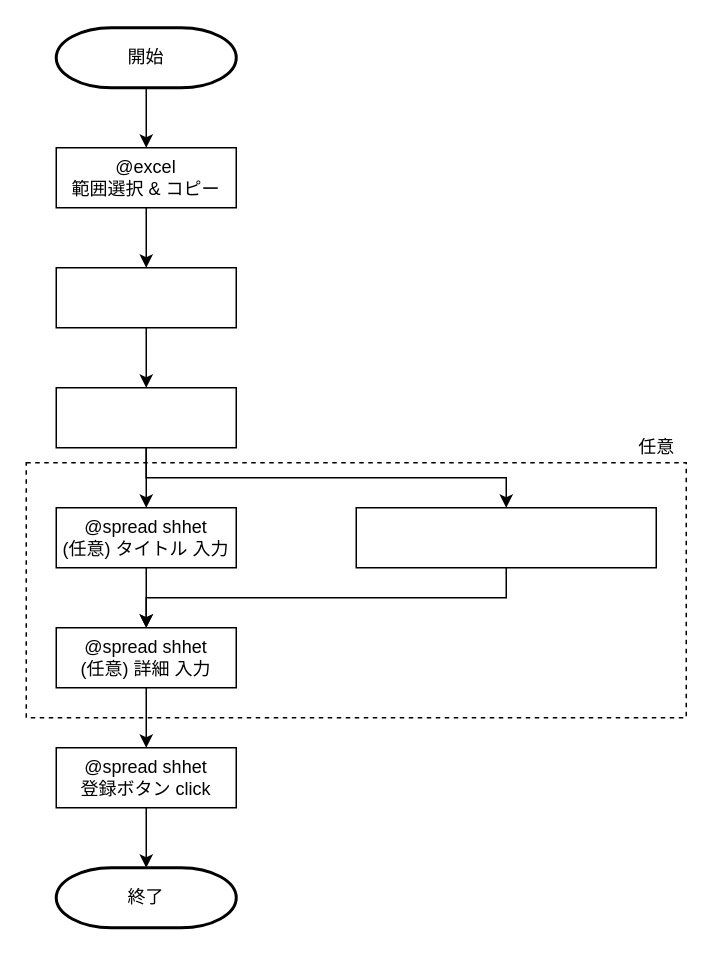
Some shapes in this 713 by 954 pixel diagram are drawn without their labels. Here are the shapes that lost their labels. From the top down, the centre of each, then its label:
At pixel 145 297: "@spread shhet カレンダid 入力".
At pixel 145 417: "@spread shhet ペースト".
At pixel 505 537: "@spread shhet (任意) タイトル生成ボタン click".
